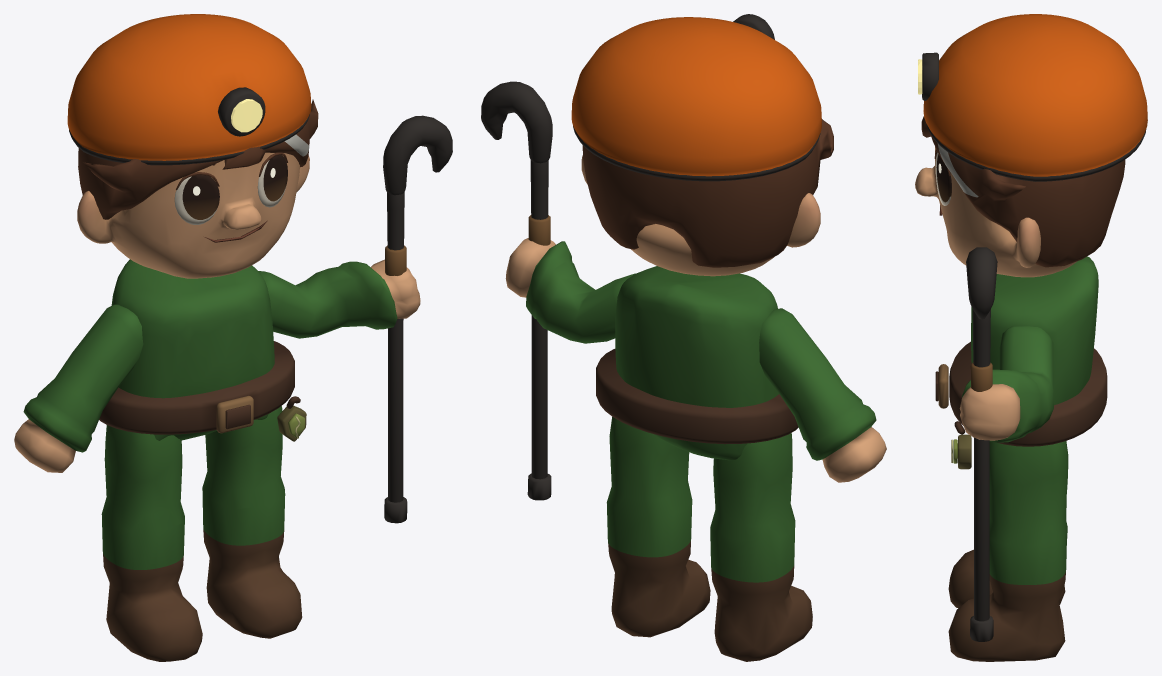
File: PIP_GREEN.glb
The picture shows the model from 3 angles, left to right: view 1: azimuth 30°, elevation 25°; view 2: azimuth 150°, elevation 25°; view 3: azimuth 270°, elevation 25°; orthographic projection. The views are drawn at different scales.
Visible parts, largest first — view 1: body (×2), legL, armR, legR, armL; view 2: body, legL, legR, armR, armL; view 3: body, legR, armR, legL.
Boxes of the visible parts, x1,y1,x2,y2 form: body (×2): (67,14,318,441); legL: (101,425,202,661); armR: (258,115,452,523); legR: (202,406,302,638); armL: (14,304,143,472); body: (571,14,833,460); legL: (710,433,812,661); legR: (606,417,710,637); armR: (481,81,635,500); armL: (759,308,886,482); body: (915,14,1147,469); legR: (948,441,1068,661); armR: (959,247,1053,641); legL: (948,483,1067,608).
Size of the model in its own units: 0.7206 by 1 by 0.3544.
